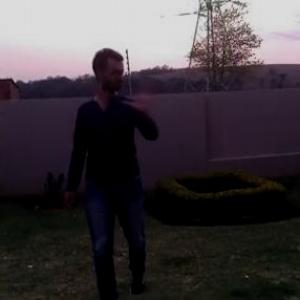follow_hand: (122, 76, 162, 111)
